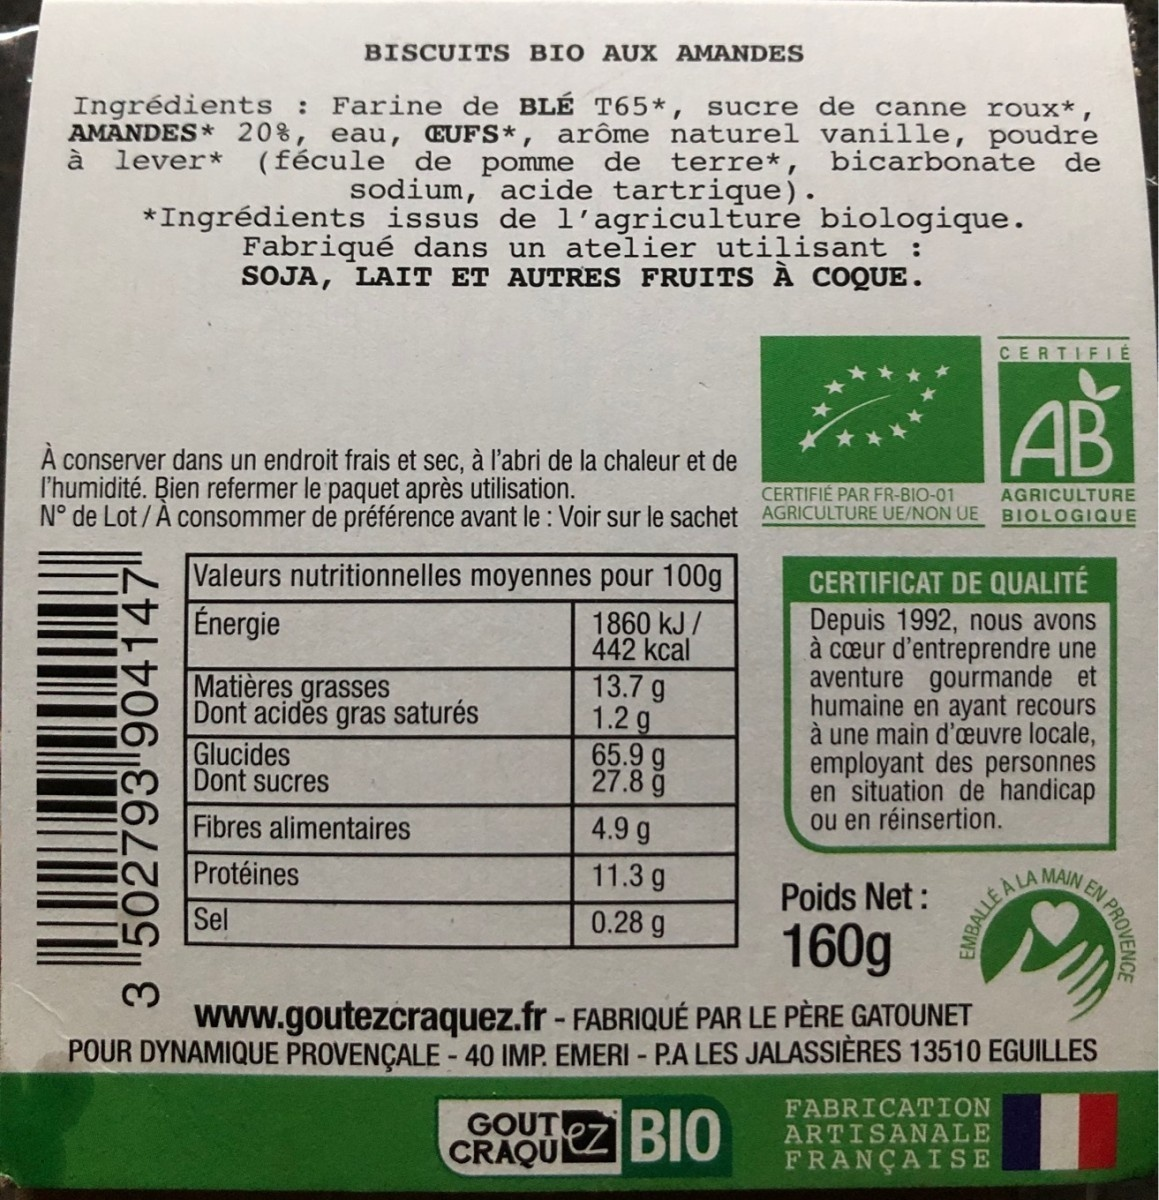table: (183, 554, 741, 952)
